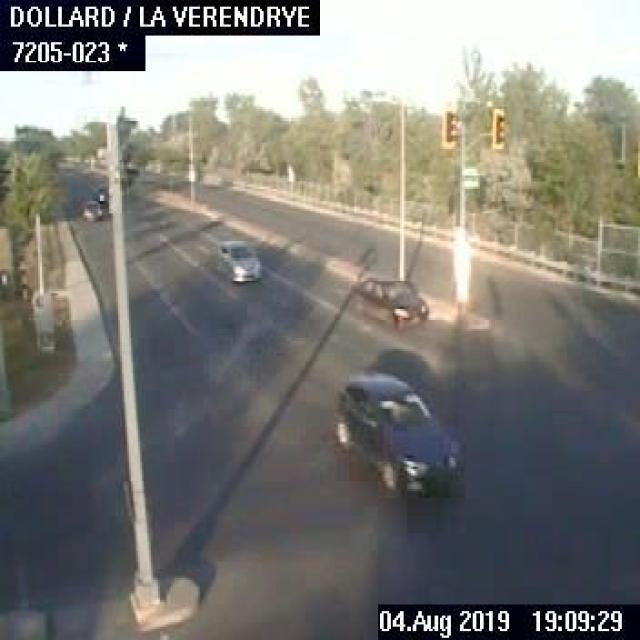vehicle: (328, 369, 457, 498), (344, 271, 429, 329), (213, 236, 260, 282), (75, 198, 102, 220), (93, 182, 111, 204)
